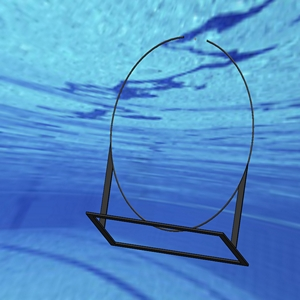circle: (85, 33, 256, 265)
